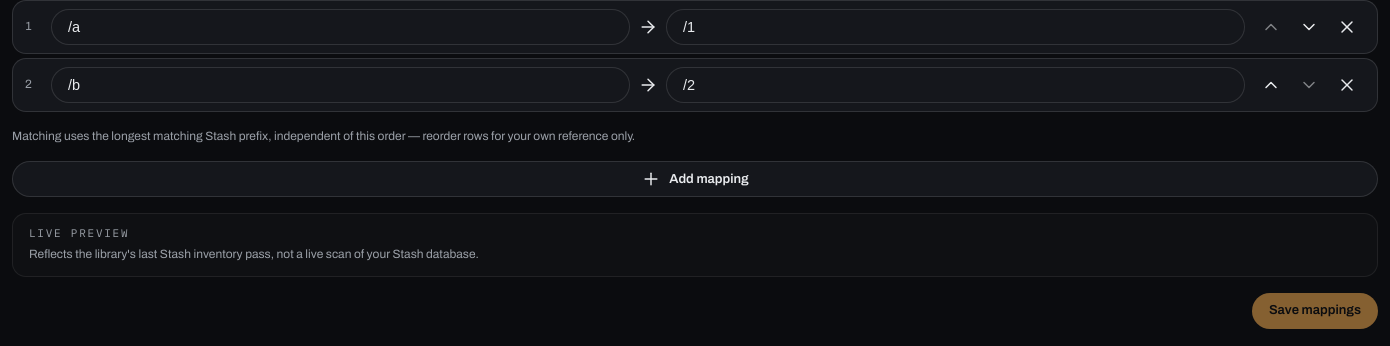
Test: StashPathMappingsPanel › Remove drops the targeted row
Click the 1st button titled "Remove". click: x=1347, y=27
box: [1329,9,1365,45]
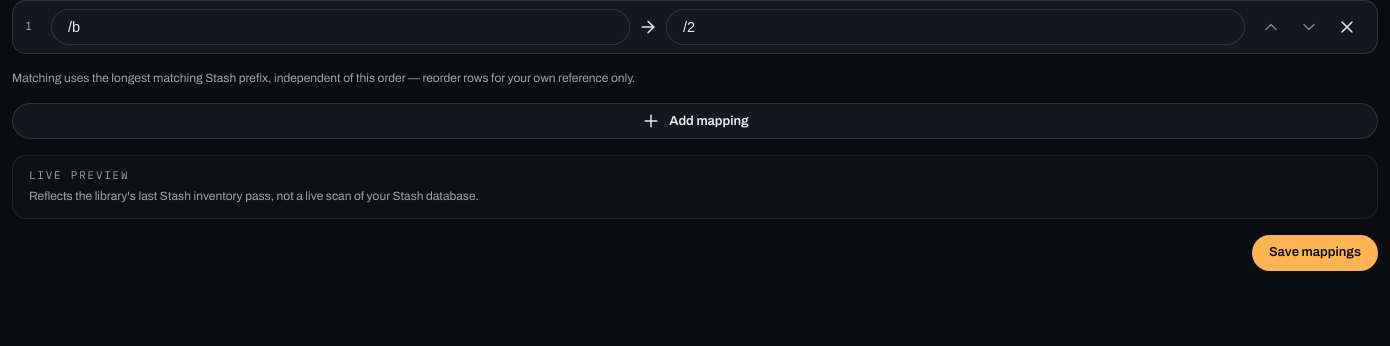
Expected: the field named "Mapping 1 — Stash prefix" holds "/b", [51,9,630,45]
Expected: the number of list items is 1, [12,0,1378,54]
